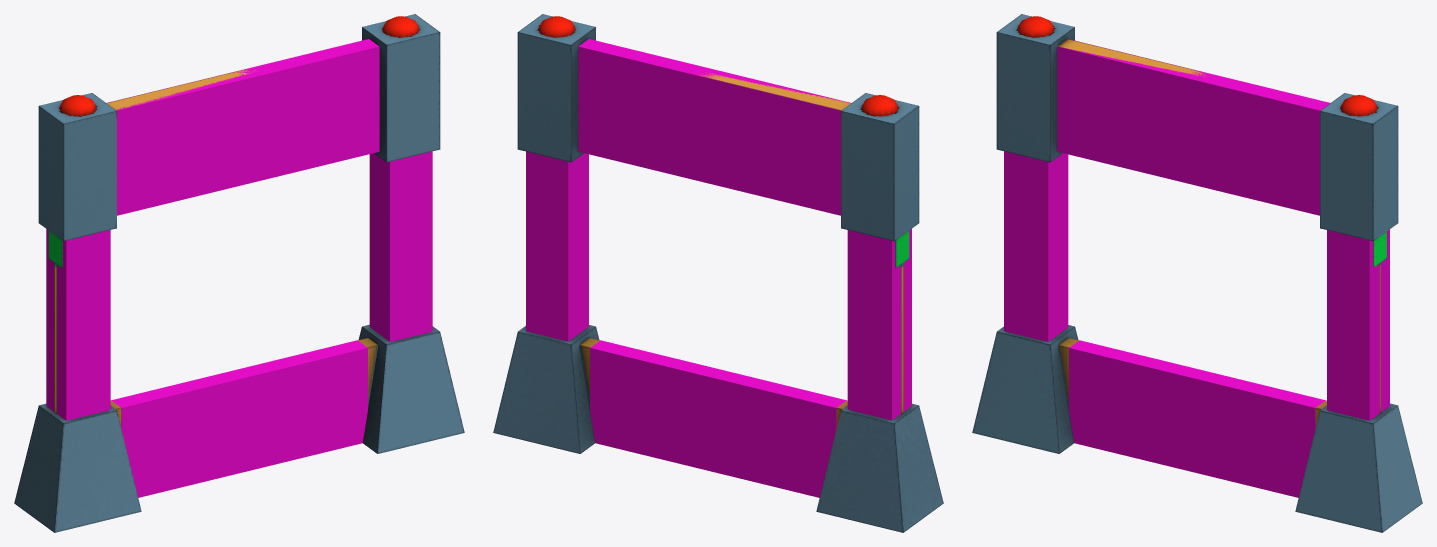
Rendered from barrierHole.FBX.
3 renders of one model, left to right at view 1: azimuth 30°, elevation 25°; view 2: azimuth 150°, elevation 25°; view 3: azimuth 330°, elevation 25°, orthographic.
Parts seen in each view (by area): view 1: barrier_hole, INVIS_OBSTACLE_barrier_hole_03, INVIS_OBSTACLE_barrier_hole_04, INVIS_OBSTACLE_barrier_hole_01, INVIS_OBSTACLE_barrier_hole_02; view 2: barrier_hole, INVIS_OBSTACLE_barrier_hole_03, INVIS_OBSTACLE_barrier_hole_04, INVIS_OBSTACLE_barrier_hole_01, INVIS_OBSTACLE_barrier_hole_02; view 3: barrier_hole, INVIS_OBSTACLE_barrier_hole_03, INVIS_OBSTACLE_barrier_hole_04, INVIS_OBSTACLE_barrier_hole_02, INVIS_OBSTACLE_barrier_hole_01.
Boxes of the visible parts, x1,y1,x2,y2 form: barrier_hole: (14, 14, 464, 532); INVIS_OBSTACLE_barrier_hole_03: (107, 39, 379, 215); INVIS_OBSTACLE_barrier_hole_04: (111, 340, 367, 497); INVIS_OBSTACLE_barrier_hole_01: (369, 151, 432, 341); INVIS_OBSTACLE_barrier_hole_02: (46, 229, 110, 420); barrier_hole: (493, 14, 943, 532); INVIS_OBSTACLE_barrier_hole_03: (578, 39, 850, 215); INVIS_OBSTACLE_barrier_hole_04: (590, 340, 846, 497); INVIS_OBSTACLE_barrier_hole_01: (526, 151, 588, 341); INVIS_OBSTACLE_barrier_hole_02: (847, 229, 911, 420); barrier_hole: (972, 14, 1422, 532); INVIS_OBSTACLE_barrier_hole_03: (1057, 39, 1330, 215); INVIS_OBSTACLE_barrier_hole_04: (1069, 340, 1325, 497); INVIS_OBSTACLE_barrier_hole_02: (1004, 151, 1068, 341); INVIS_OBSTACLE_barrier_hole_01: (1327, 229, 1389, 420).
Bounding box in the file's own units: 35.14 × 33.57 × 5.99.
